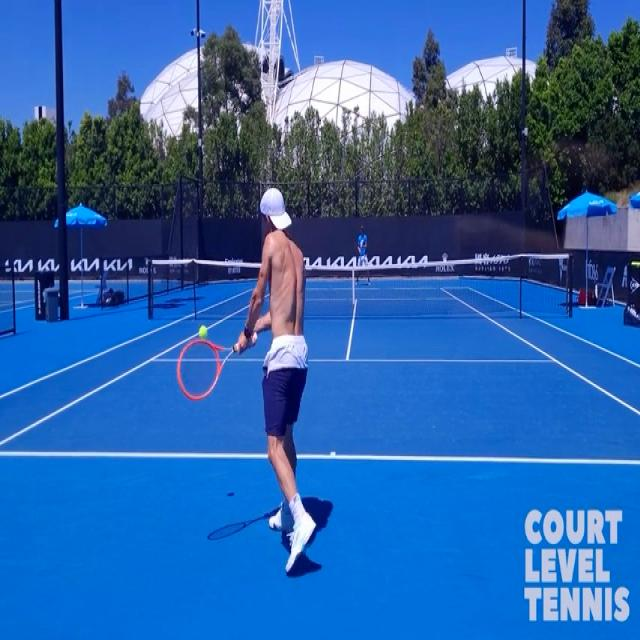backhand-stroke: (178, 187, 314, 582)
